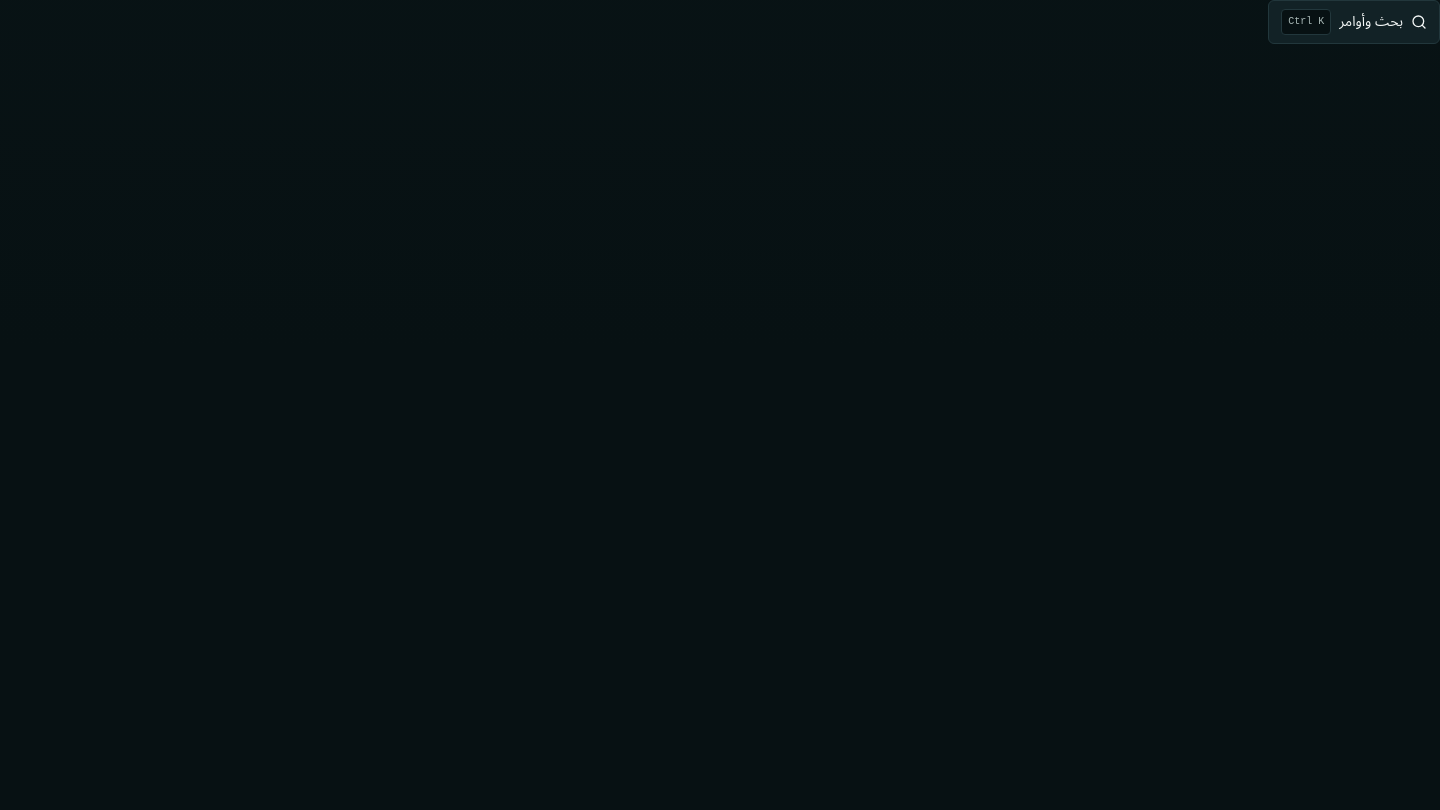
Test: global command search › opens from Ctrl+K, supports keyboard navigation, and synchronizes the selected entity
Press k
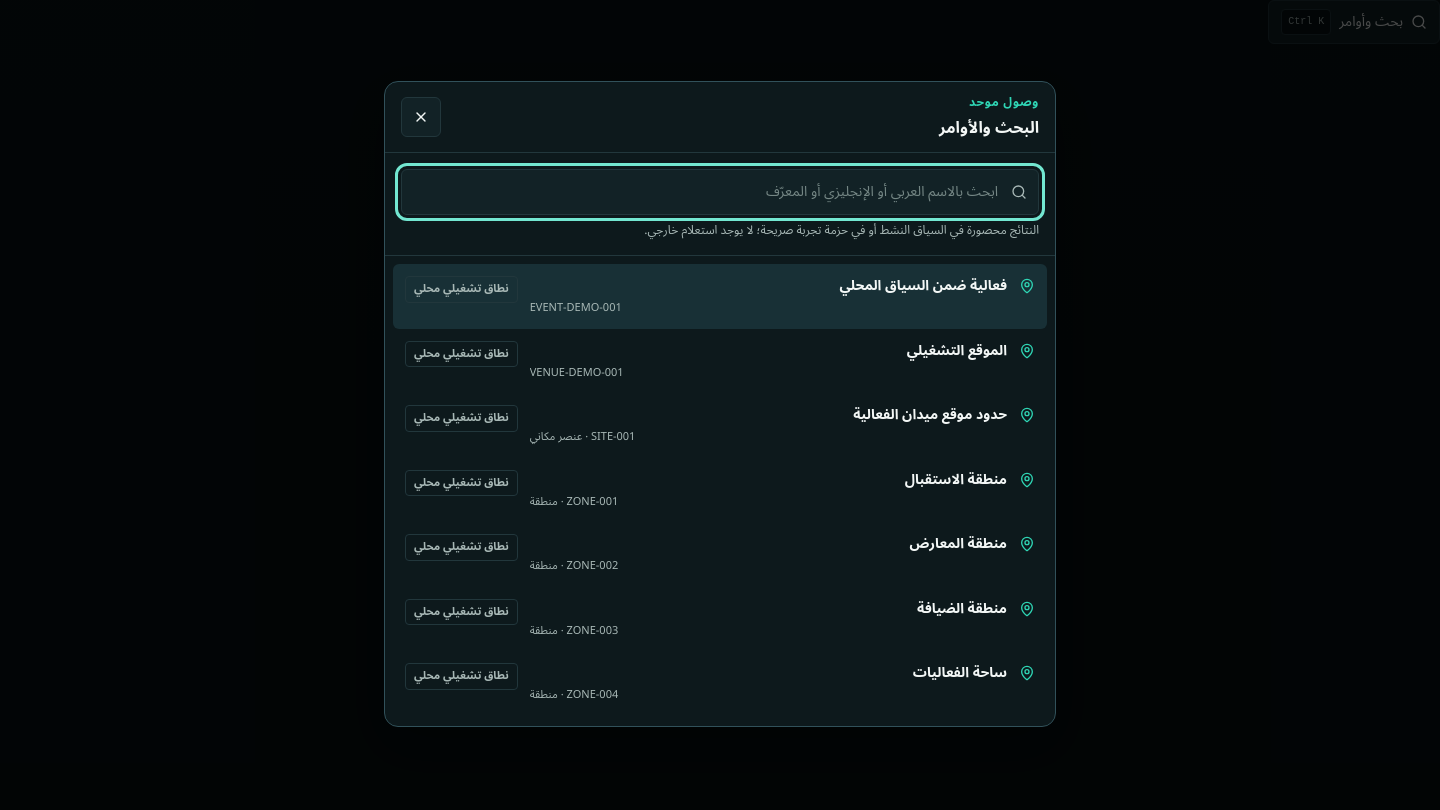
In the field with test id "global-search-input": (720, 192) [401, 169, 1039, 215], type "ZONE-002"
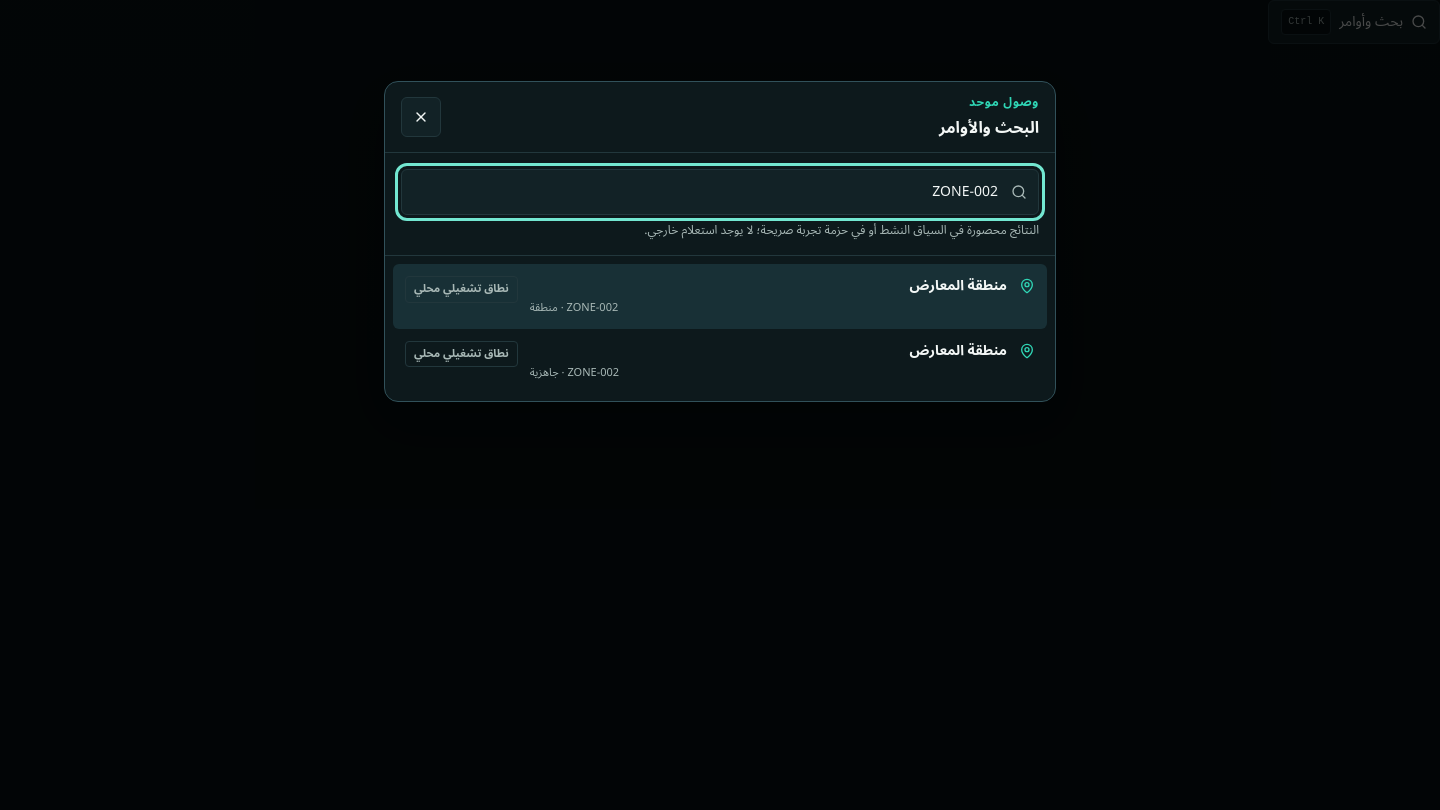
Press Arrowdown Enter
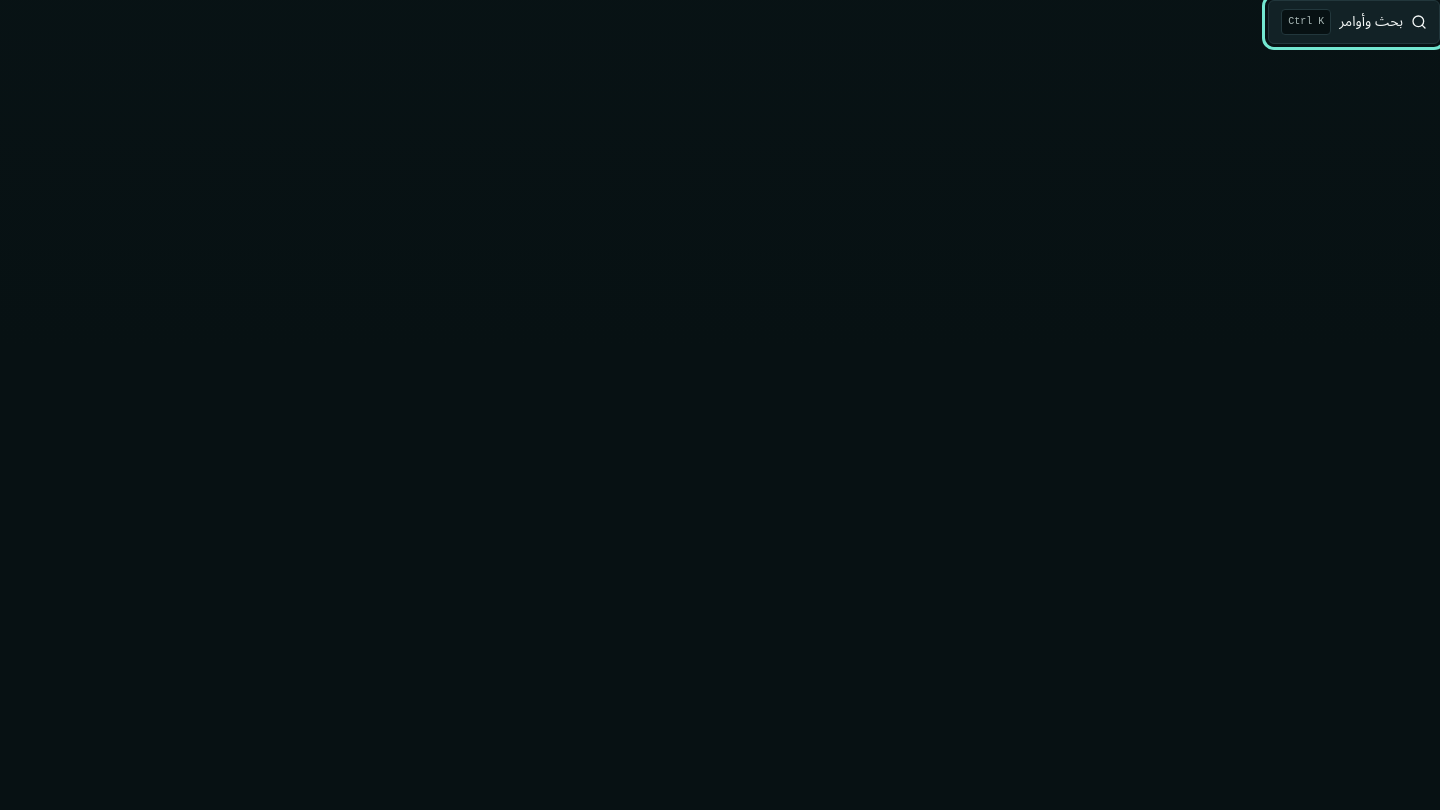
Check: the element with test id "global-search-dialog" is gone
